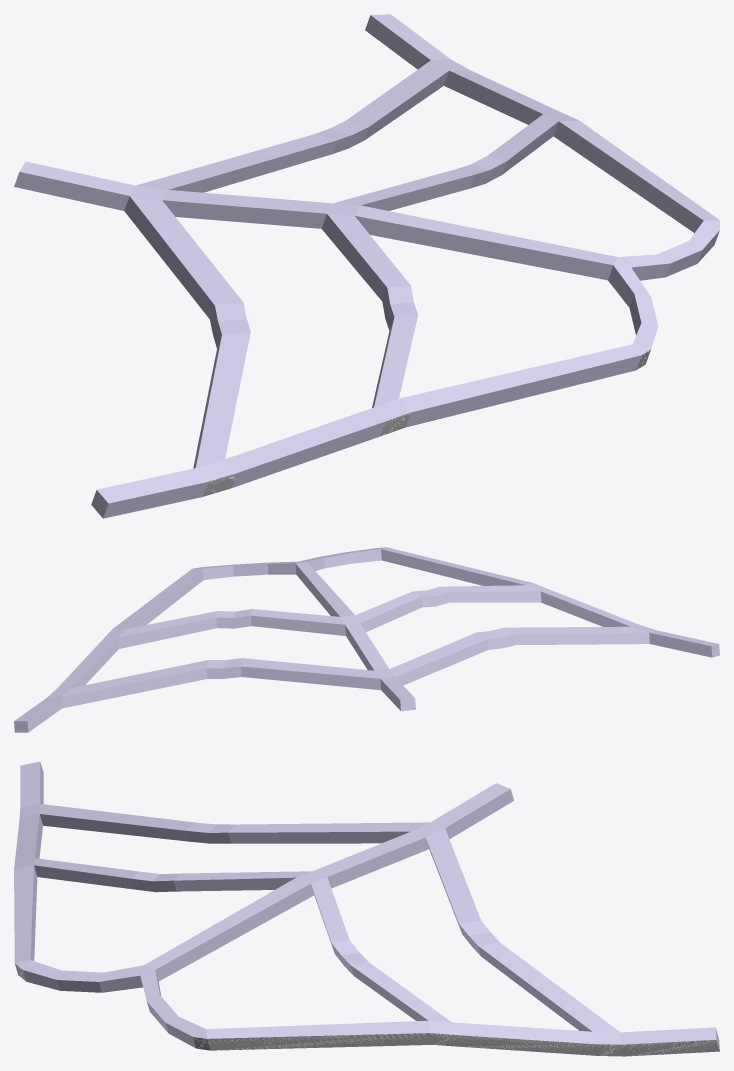
The model's file is Web_03.fbx.
The picture shows the model from 3 angles, top to bottom: view 1: azimuth 30°, elevation 25°; view 2: azimuth 150°, elevation 25°; view 3: azimuth 270°, elevation 25°; orthographic projection. The views are drawn at different scales.
Visible parts, largest first — view 1: Web_03; view 2: Web_03; view 3: Web_03.
Part boxes in pixels (x1,y1,x2,y2): Web_03: [14, 14, 719, 518]; Web_03: [14, 547, 719, 732]; Web_03: [14, 761, 719, 1056].
Bounding box in the file's own units: 46.11 × 5.67 × 46.57.
